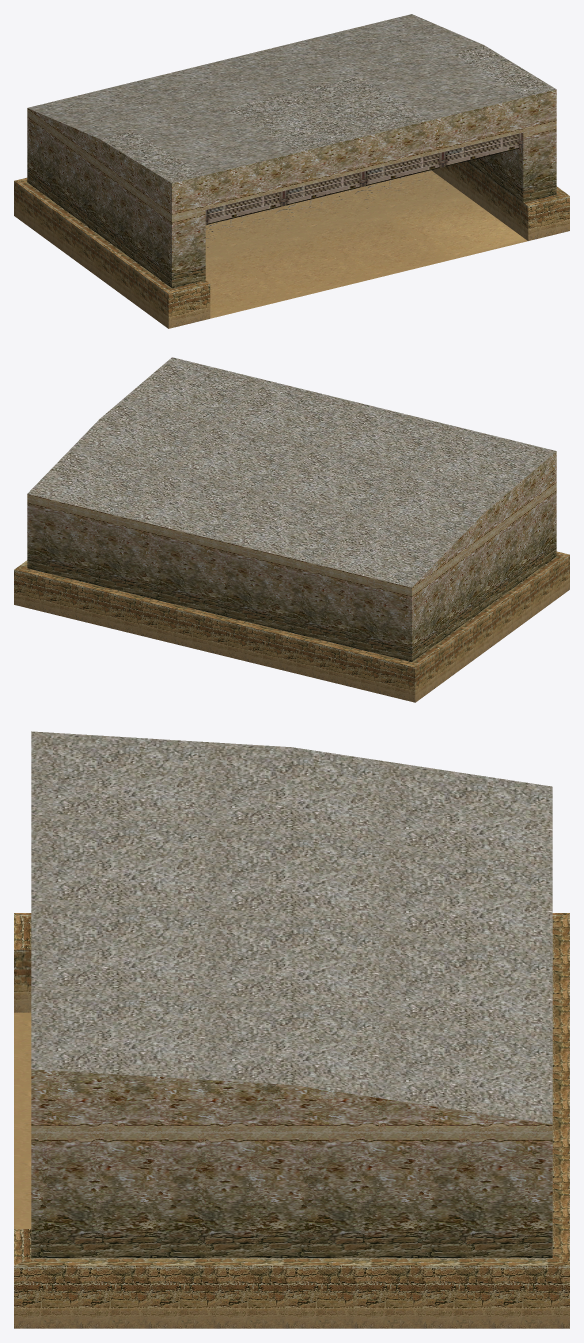
The model's file is M5Z1_VillageExt_06.glb.
3 views of the same model, one above another, from view 1: azimuth 30°, elevation 25°; view 2: azimuth 150°, elevation 25°; view 3: azimuth 270°, elevation 25° (orthographic). The views are drawn at different scales.
Visible parts, largest first — view 1: M5Z1_VILLAGEEXT_06; view 2: M5Z1_VILLAGEEXT_06; view 3: M5Z1_VILLAGEEXT_06.
Boxes of the visible parts, x1,y1,x2,y2 form: M5Z1_VILLAGEEXT_06: (14,14,569,328); M5Z1_VILLAGEEXT_06: (14,357,569,702); M5Z1_VILLAGEEXT_06: (14,731,569,1328).
Size of the model in its own units: 12 by 4 by 8.
7 materials, 7 textured.
